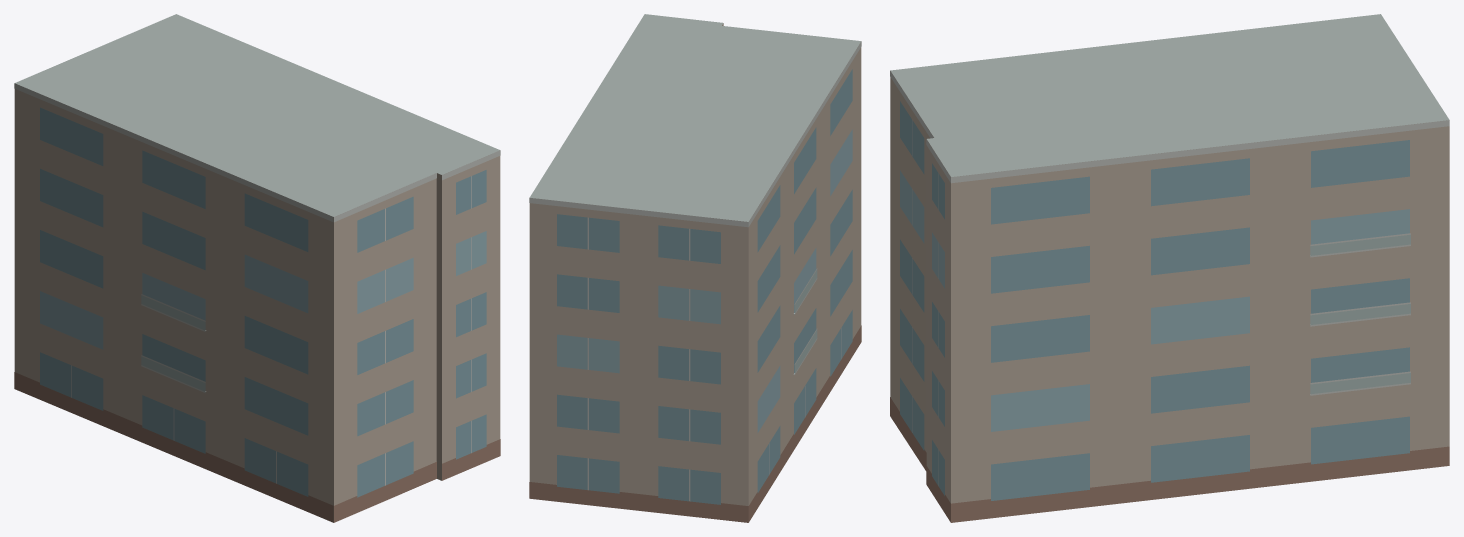
Rendered from survey-upis-32710939.glb.
3 views of the same model, side by side, from view 1: azimuth 30°, elevation 25°; view 2: azimuth 150°, elevation 25°; view 3: azimuth 270°, elevation 25° (orthographic). The views are drawn at different scales.
Visible parts, largest first — view 1: survey-upis-32710939.tmp; view 2: survey-upis-32710939.tmp; view 3: survey-upis-32710939.tmp.
Boxes of the visible parts, x1,y1,x2,y2 form: survey-upis-32710939.tmp: (14, 14, 500, 522); survey-upis-32710939.tmp: (529, 14, 861, 522); survey-upis-32710939.tmp: (890, 14, 1449, 522).
Bounding box in the file's own units: 13.98 × 13.8 × 20.25.
